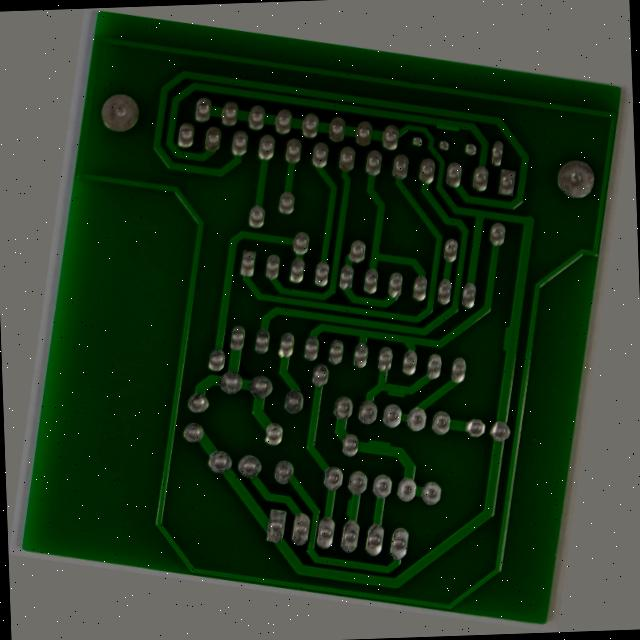spur: (394, 440, 431, 470), (527, 285, 549, 322), (408, 63, 446, 83), (405, 377, 440, 397), (384, 515, 405, 544)
